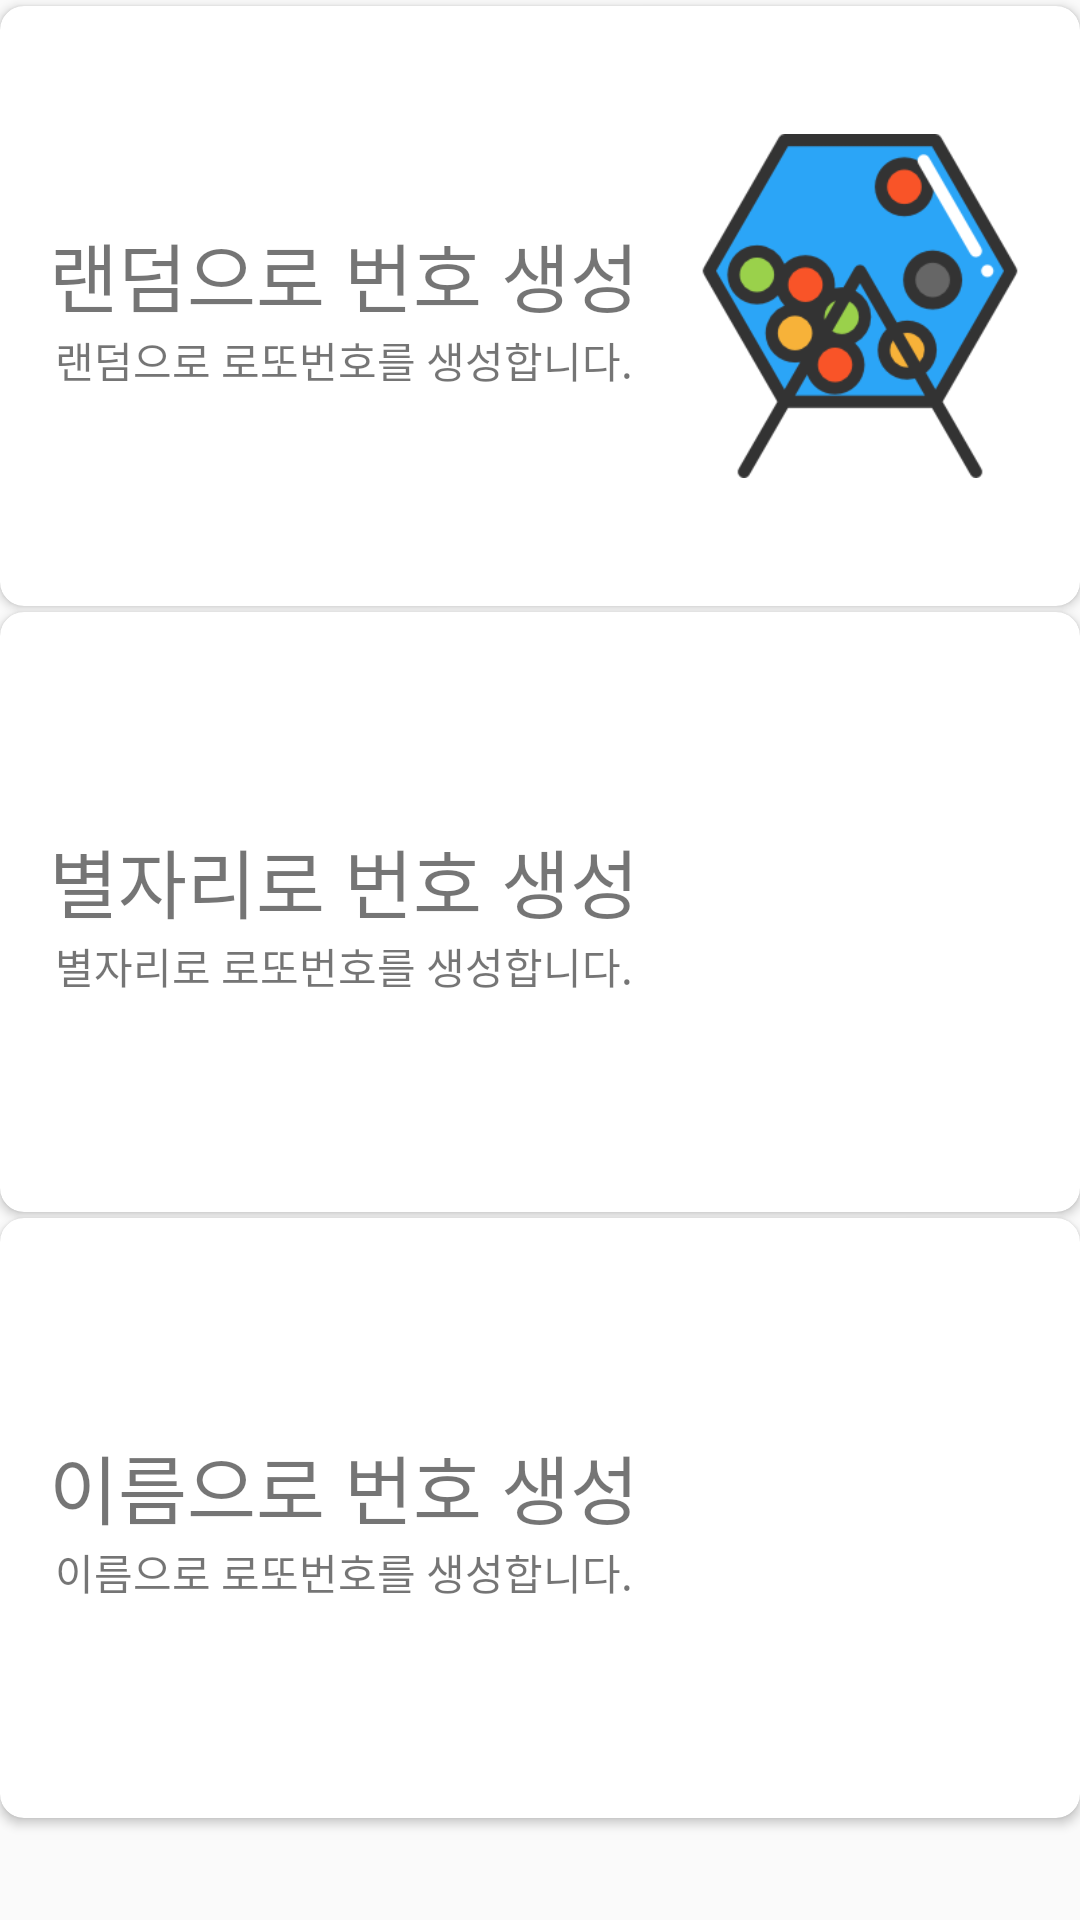

Icons on this 1080w x 1920h Android screen, each with the point to tap as (x=x, y=y):
lottery: (x=860, y=306)
